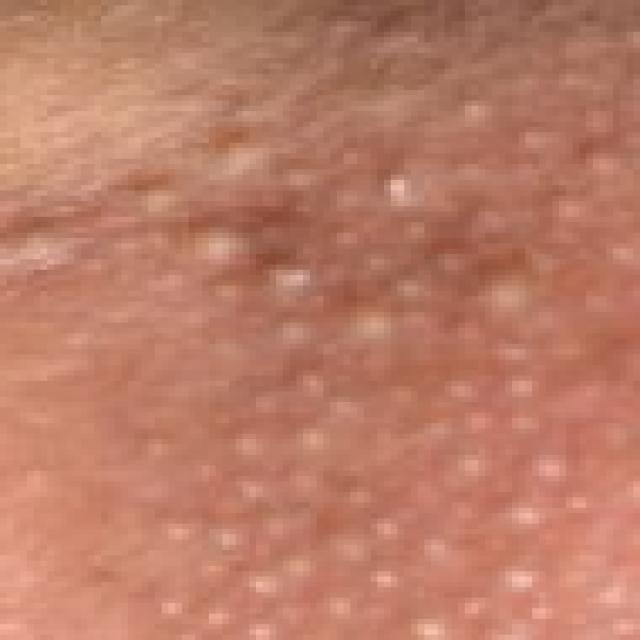whitehead: (0, 114, 639, 633)
